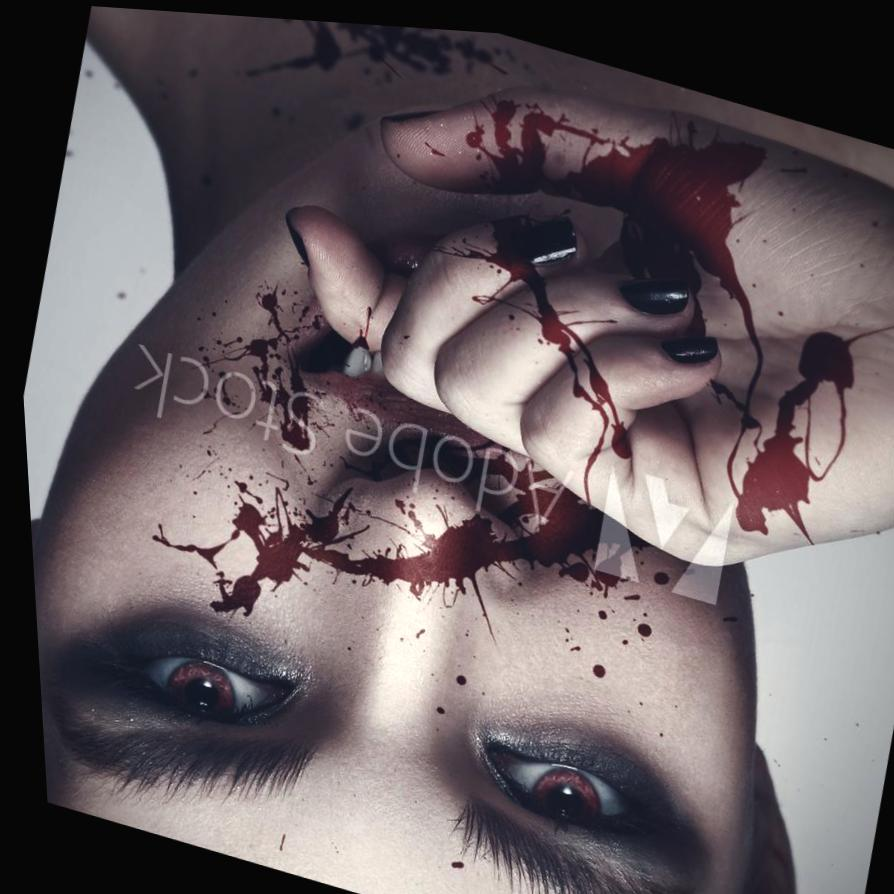Fire: (417, 82, 886, 531), (148, 333, 631, 595), (236, 14, 488, 100)
